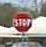stop: (13, 12, 32, 32)
